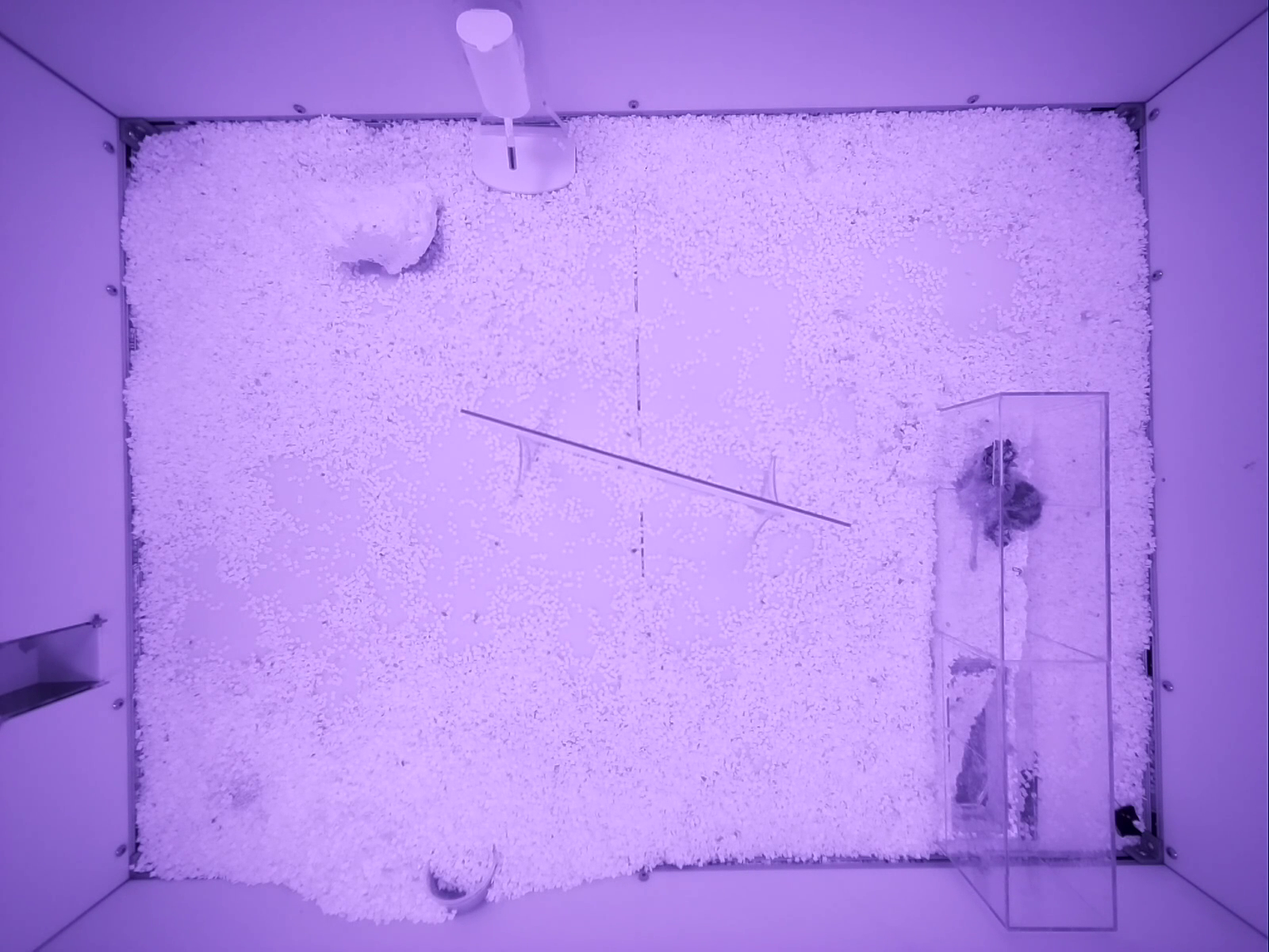adult_back: (955, 439, 1015, 569), (984, 480, 1042, 547)
